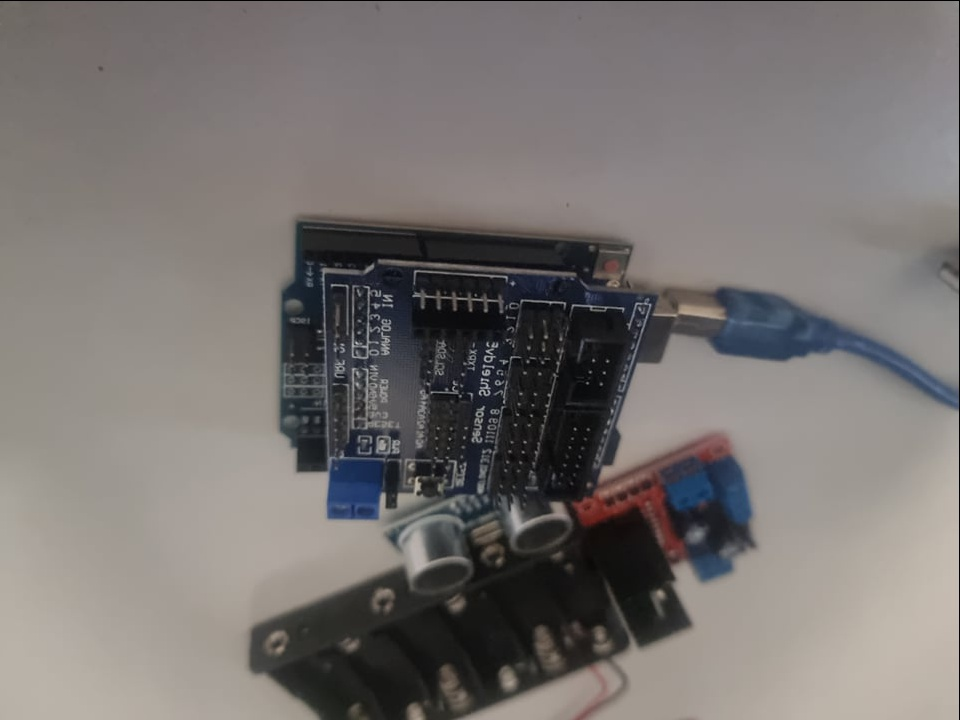5V EXPANSION: (321, 275, 667, 521)
BATTERY BOX: (240, 542, 604, 716)
MOTOR: (609, 434, 766, 656)
SENSOR: (389, 481, 576, 591)
